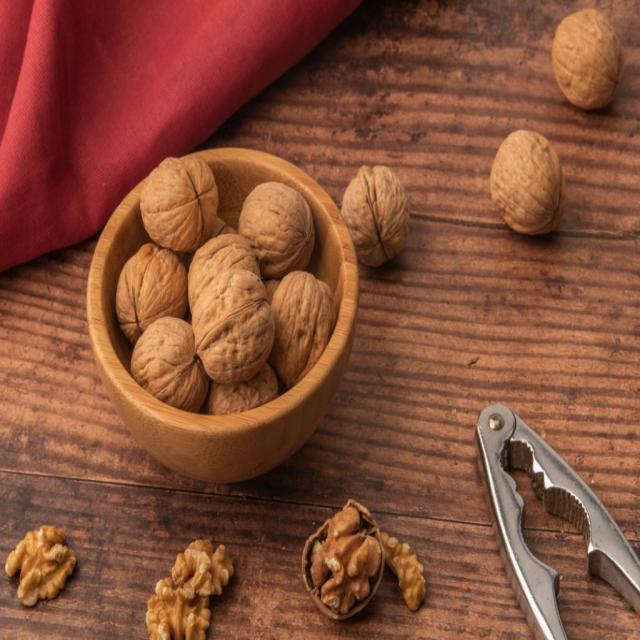Frutta secca: (113, 155, 336, 406), (303, 507, 381, 615), (494, 128, 569, 236), (549, 8, 625, 104), (342, 165, 413, 264), (9, 526, 79, 604), (146, 579, 208, 640), (173, 540, 236, 600)
